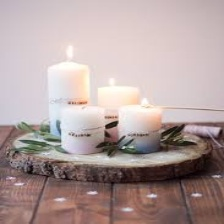fire: (65, 45, 73, 58), (109, 76, 117, 86), (142, 97, 147, 105)
